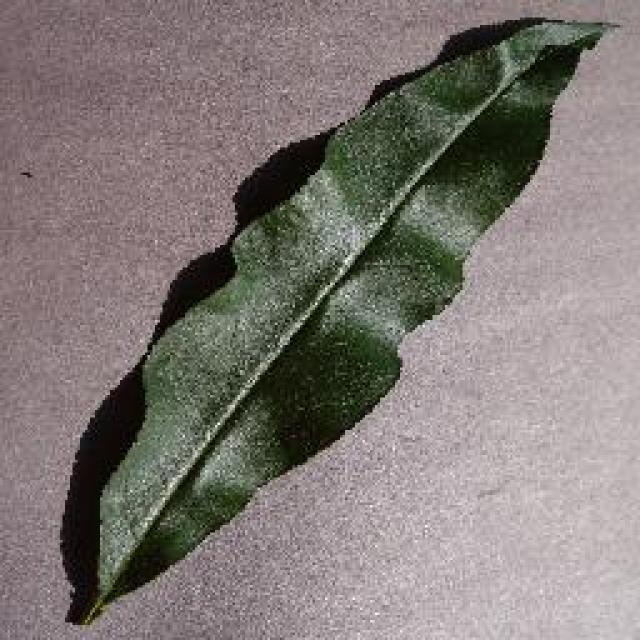Pea_healthy: (144, 38, 615, 530)
